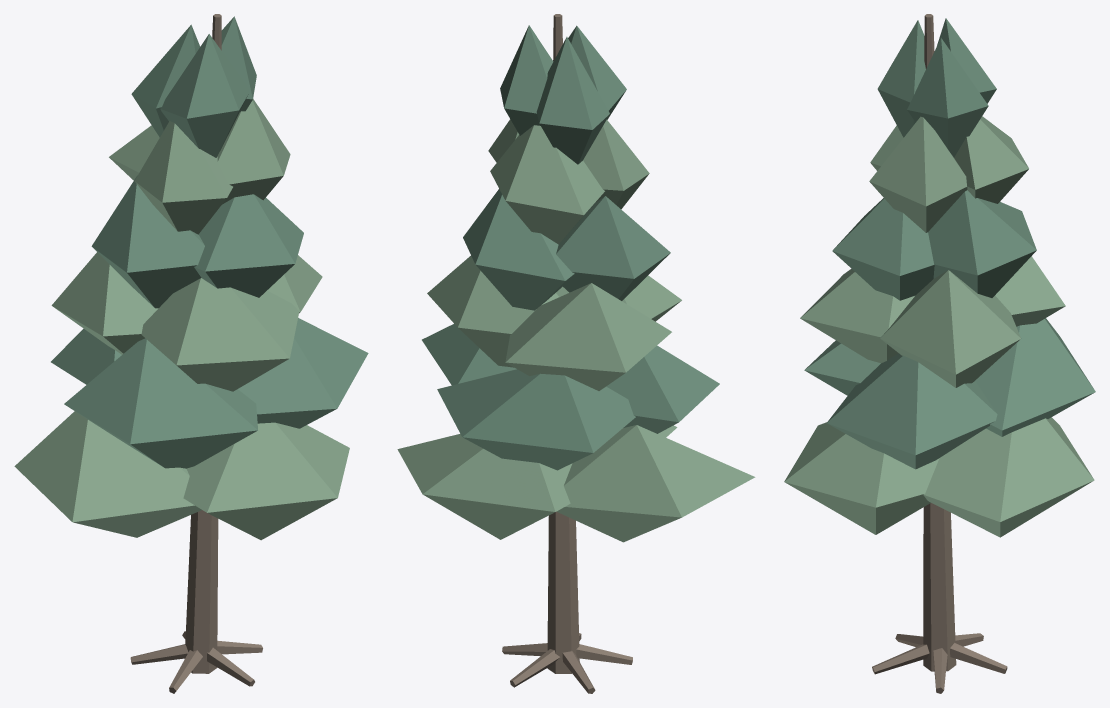
3 renders of one model, left to right at view 1: azimuth 30°, elevation 25°; view 2: azimuth 150°, elevation 25°; view 3: azimuth 270°, elevation 25°, orthographic.
Bounding box in the file's own units: 8.43 × 16.61 × 7.16.
